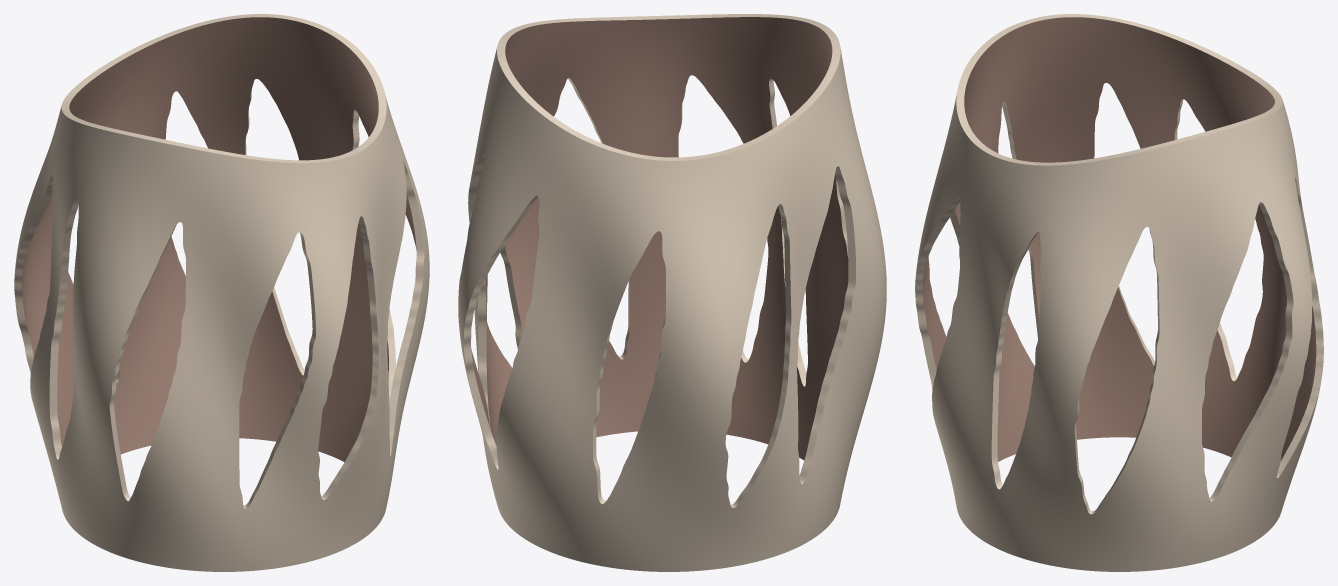
The model's file is tidal-pleat.glb.
The picture shows the model from 3 angles, left to right: view 1: azimuth 30°, elevation 25°; view 2: azimuth 150°, elevation 25°; view 3: azimuth 270°, elevation 25°; orthographic projection. The views are drawn at different scales.
Visible parts, largest first — view 1: tidal-pleat; view 2: tidal-pleat; view 3: tidal-pleat.
Part boxes in pixels (x1,y1,x2,y2): tidal-pleat: (14, 14, 429, 571); tidal-pleat: (458, 14, 886, 571); tidal-pleat: (915, 14, 1323, 571).
Size of the model in its own units: 145 by 167 by 145.
